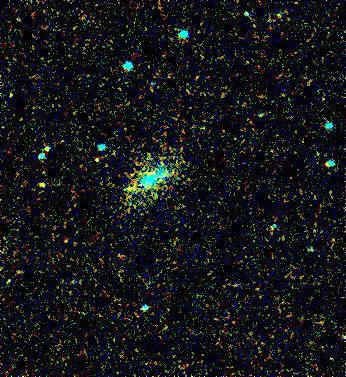star: (30, 166, 60, 196)
